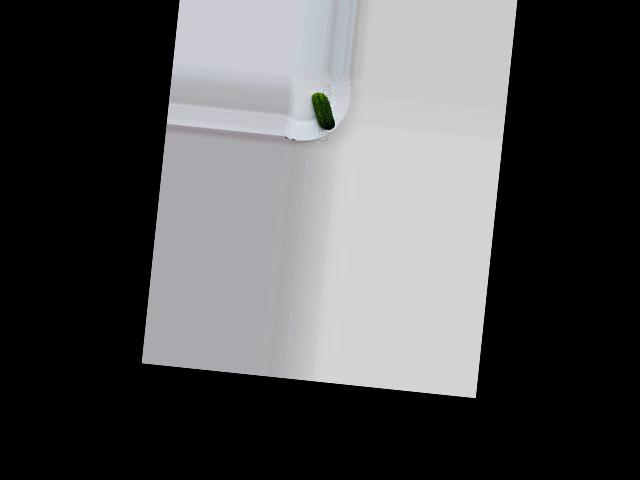cucumber: (308, 91, 337, 130)
